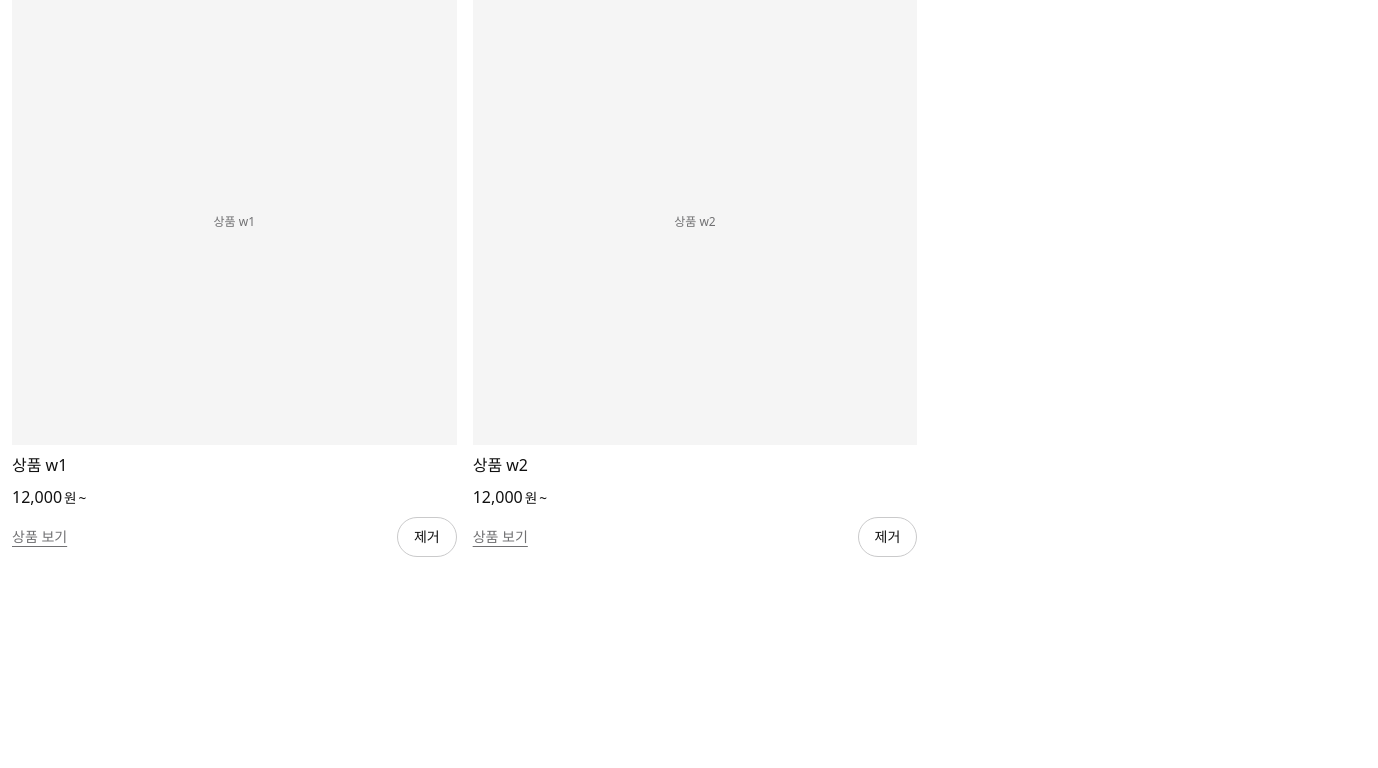
Test: <WishlistClient> › 제거 실패 시 목록이 원상 복구되고 에러가 표시된다
The width and height of the screenshot is (1378, 768).
Click the 1st button "제거" at coordinates (427, 537), box [397,517,457,557]
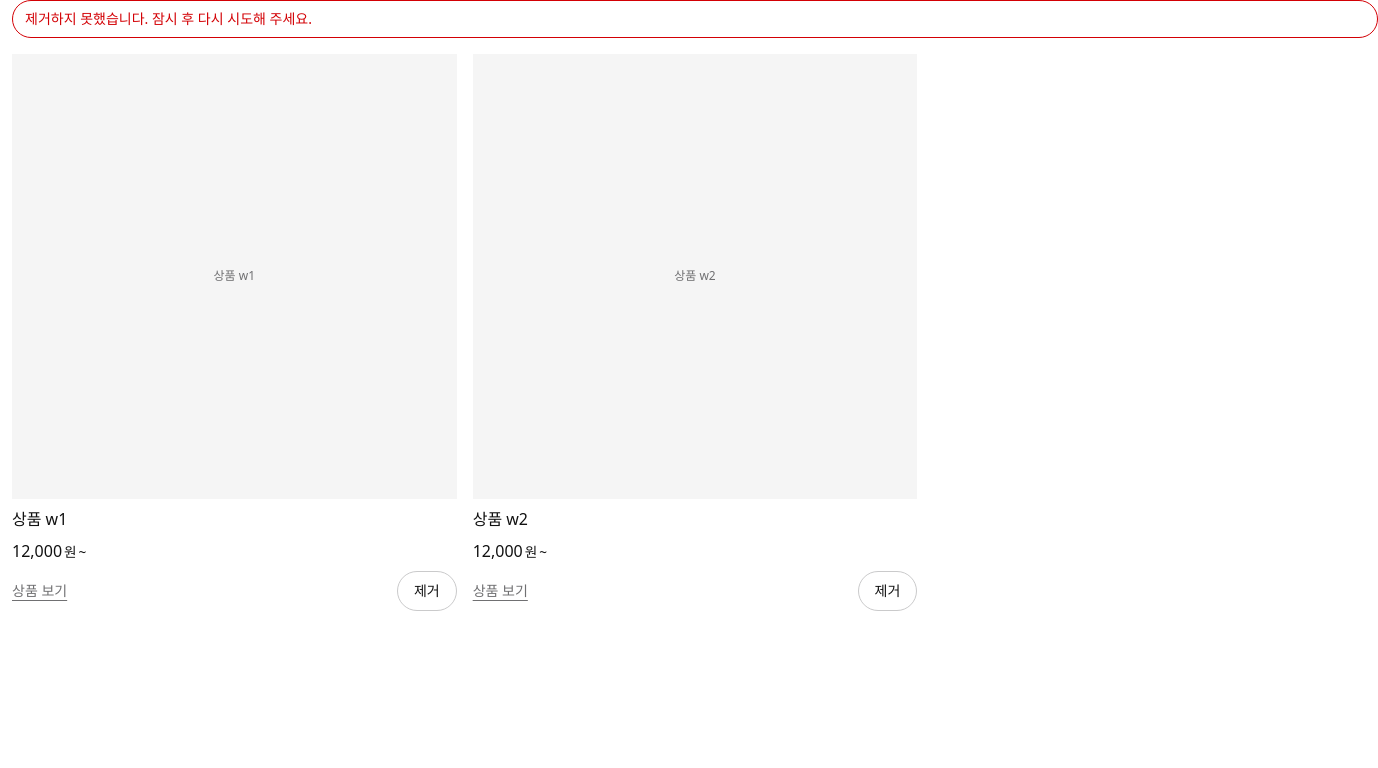
Expected: the number of list items with test id "wishlist-item" is 2, [12,54,457,611]; [473,54,917,611]
Result: the message shows "제거하지 못했습니다" at [25,9,312,28]
